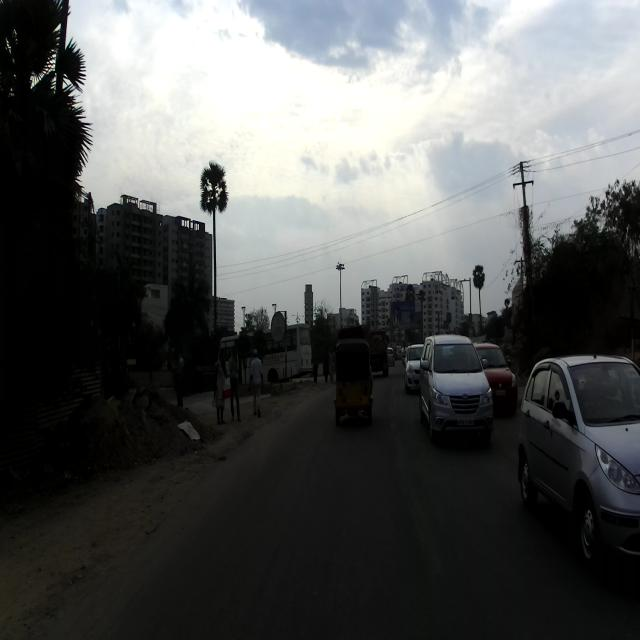car ahead at: (522, 348, 640, 542), (422, 332, 496, 450)
